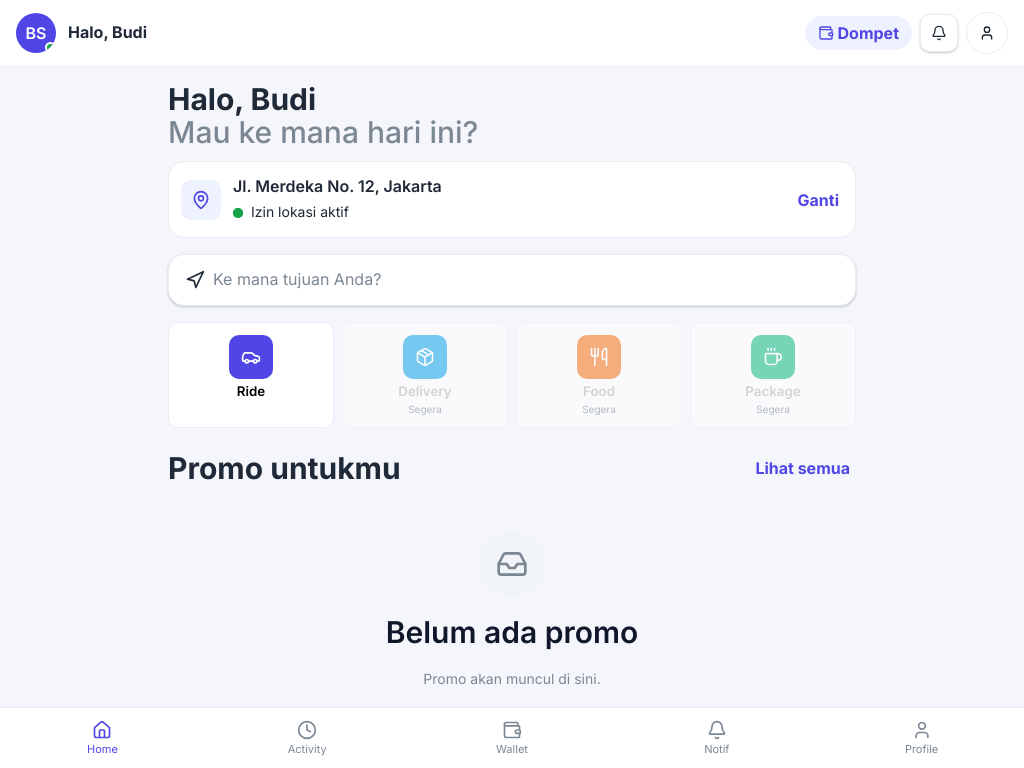
PassengerHome — navigation › bottom nav switches tabs
Expected: the text "Mau ke mana hari ini?" is shown, [168,114,478,150]
Click the button "Wallet": click(512, 738) [410,712,614,764]
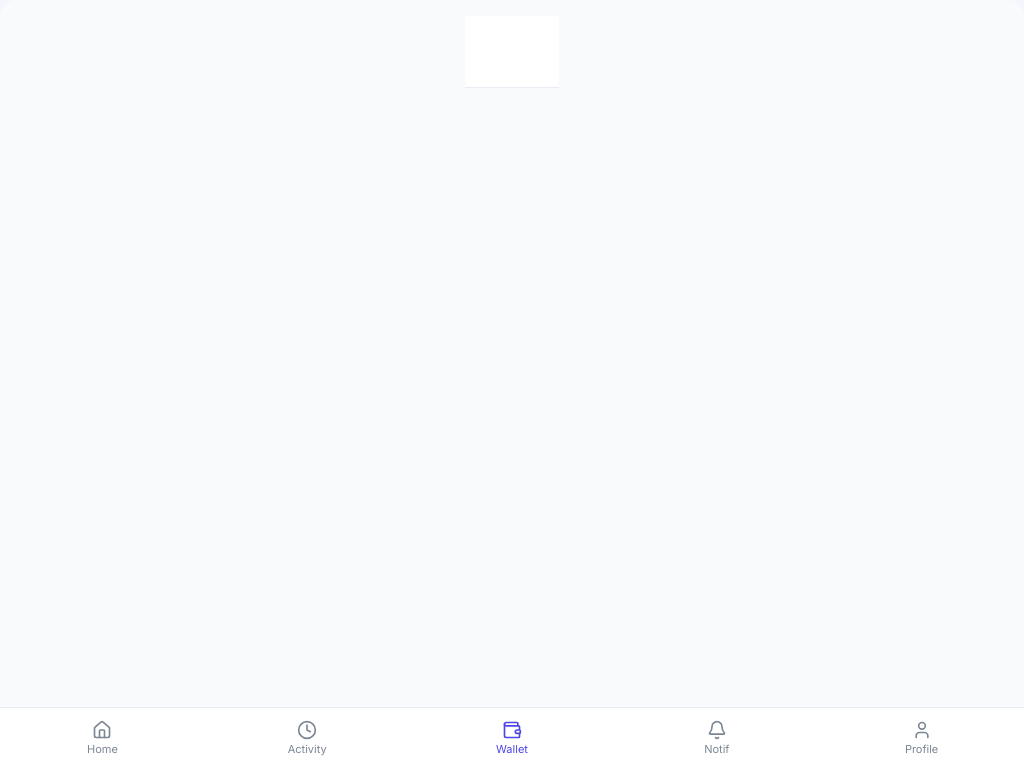
Click the button "Profile": click(922, 738) [819,712,1023,764]
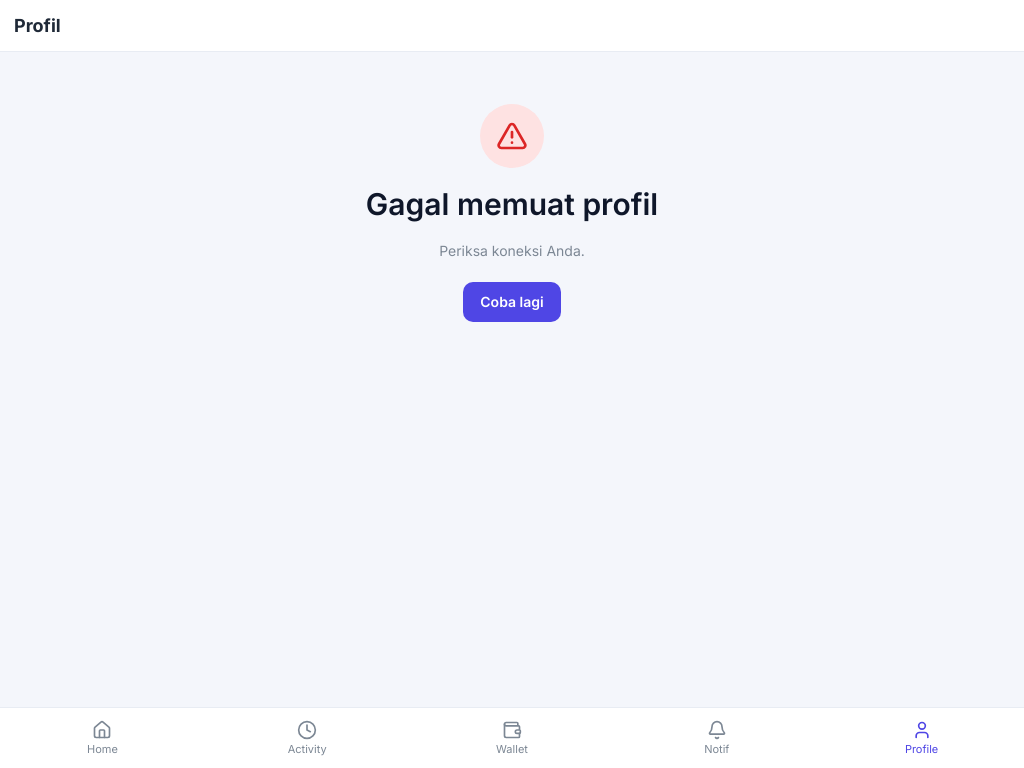
Now the heading "Profil" is shown, box [14,15,61,36]
